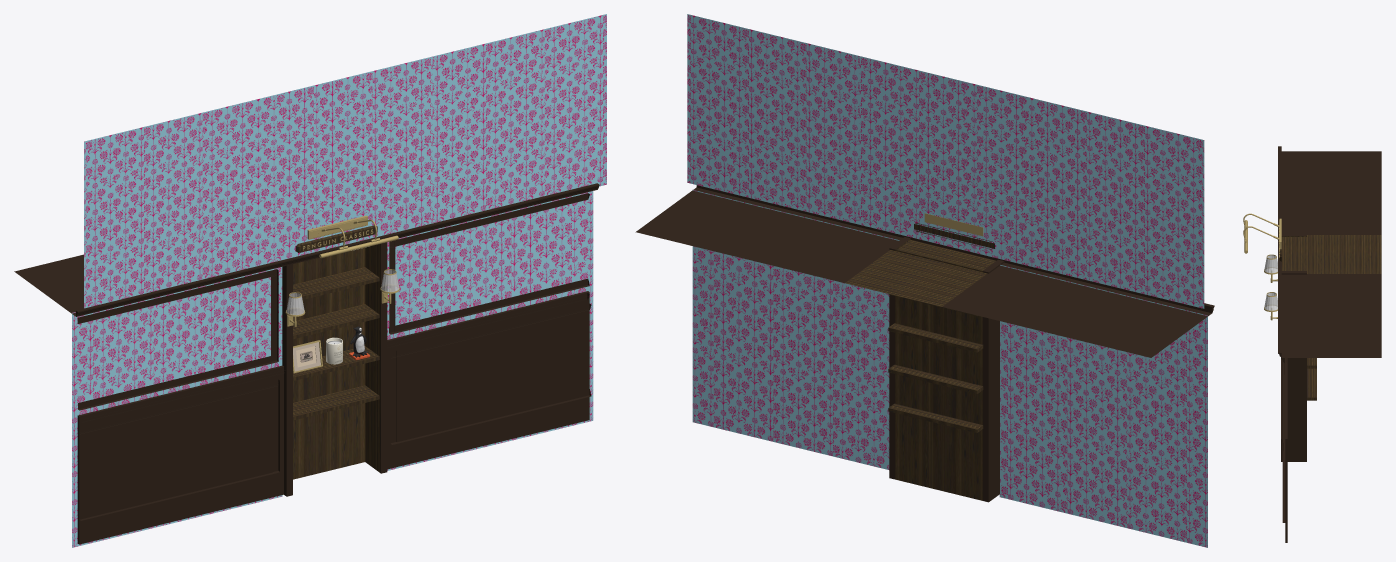
The model's file is proj_0617.gltf.
The picture shows the model from 3 angles, left to right: view 1: azimuth 30°, elevation 25°; view 2: azimuth 150°, elevation 25°; view 3: azimuth 270°, elevation 25°; orthographic projection. The views are drawn at different scales.
Visible parts, largest first — view 1: Wallback, Wallwood, WallLamp, Ticket; view 2: Wallback, Wallwood; view 3: Wallwood, WallLamp, LampGold.
Boxes of the visible parts, x1=… form: Wallback: x1=72, y1=14, x2=606, y2=547; Wallwood: x1=14, y1=183, x2=599, y2=544; WallLamp: x1=285, y1=269, x2=399, y2=326; Ticket: x1=293, y1=340, x2=322, y2=373; Wallback: x1=687, y1=14, x2=1207, y2=547; Wallwood: x1=635, y1=185, x2=1214, y2=502; Wallwood: x1=1278, y1=146, x2=1381, y2=542; WallLamp: x1=1264, y1=254, x2=1277, y2=320; LampGold: x1=1243, y1=213, x2=1279, y2=253.
Bounding box in the file's own units: 108 × 78.96 × 30.
12 materials, 5 textured.
